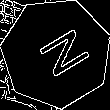N_SW: (25, 23, 88, 83)
